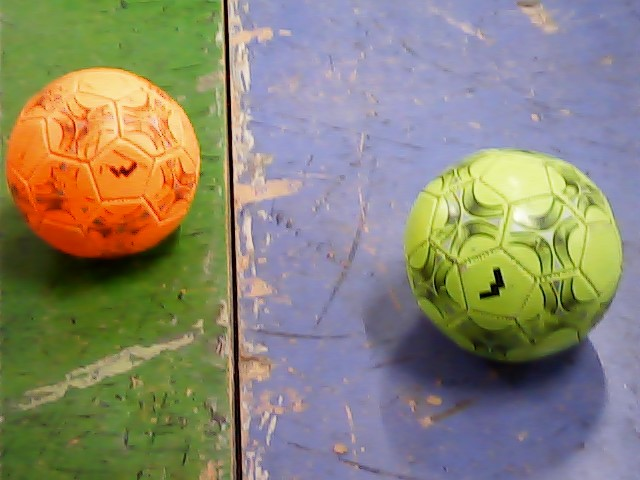Green_ball: (403, 144, 626, 354)
Orange_ball: (5, 64, 211, 258)
